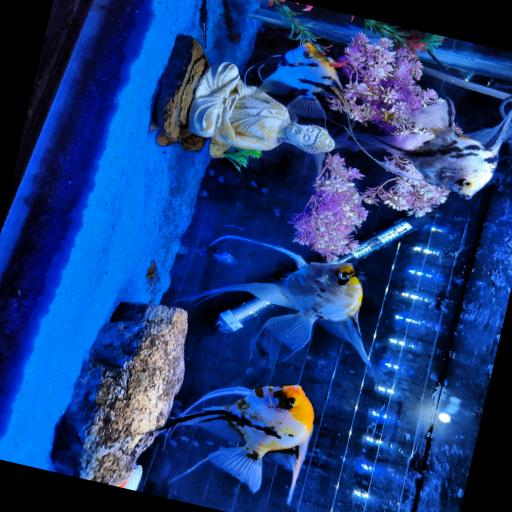Fish: (184, 235, 369, 364), (159, 384, 313, 502), (351, 98, 511, 198), (260, 42, 346, 117)
